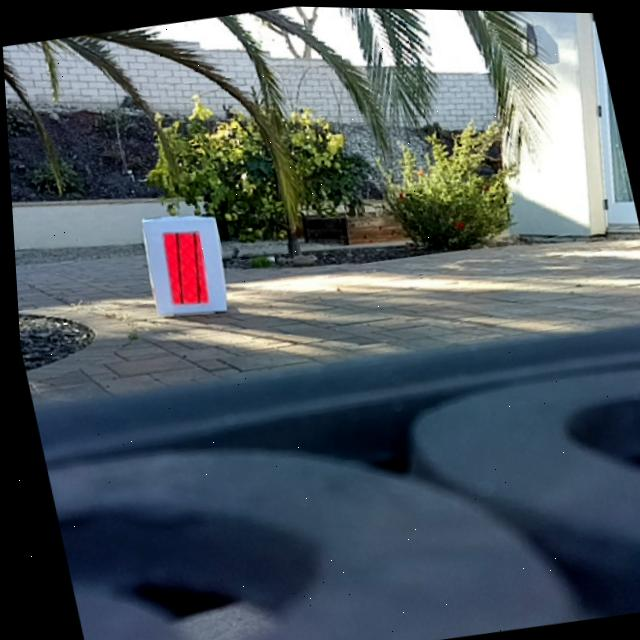led: (155, 227, 210, 308)
